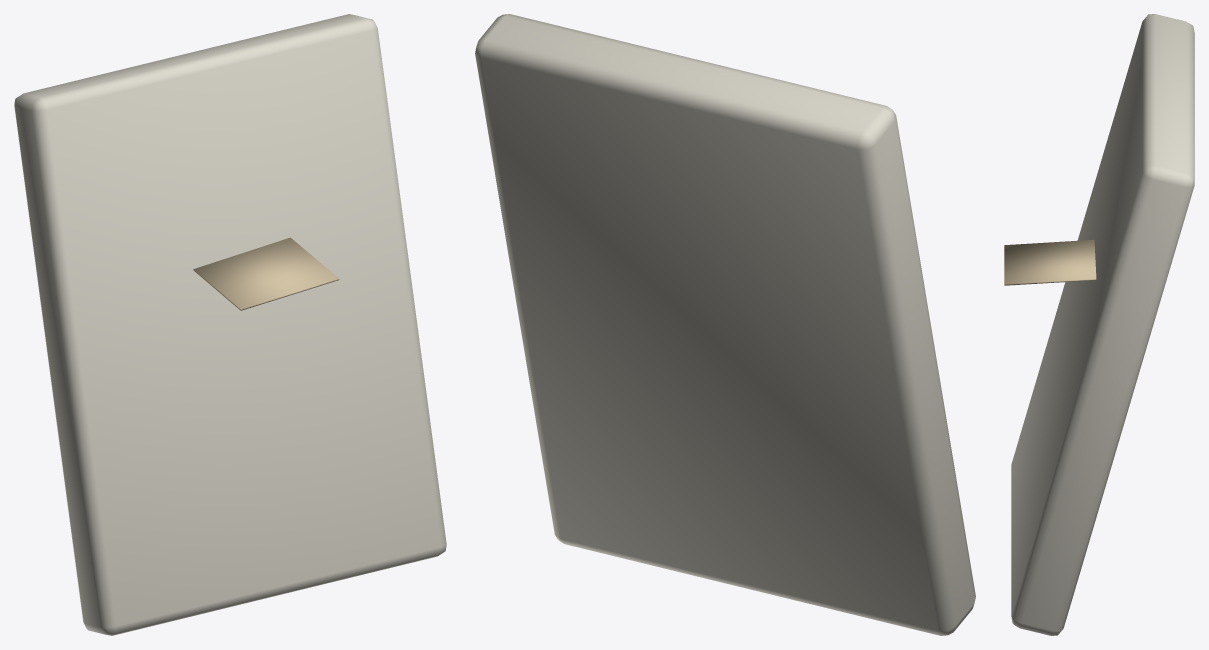
The model's file is alley_mattress.glb.
3 views of the same model, side by side, from view 1: azimuth 30°, elevation 25°; view 2: azimuth 150°, elevation 25°; view 3: azimuth 270°, elevation 25° (orthographic). The views are drawn at different scales.
Visible parts, largest first — view 1: alley_mattress; view 2: alley_mattress; view 3: alley_mattress.
Boxes of the visible parts, x1,y1,x2,y2 form: alley_mattress: (14,14,446,635); alley_mattress: (475,14,975,635); alley_mattress: (1004,14,1194,635).
Size of the model in its own units: 1.4 by 1.91 by 0.7033.
